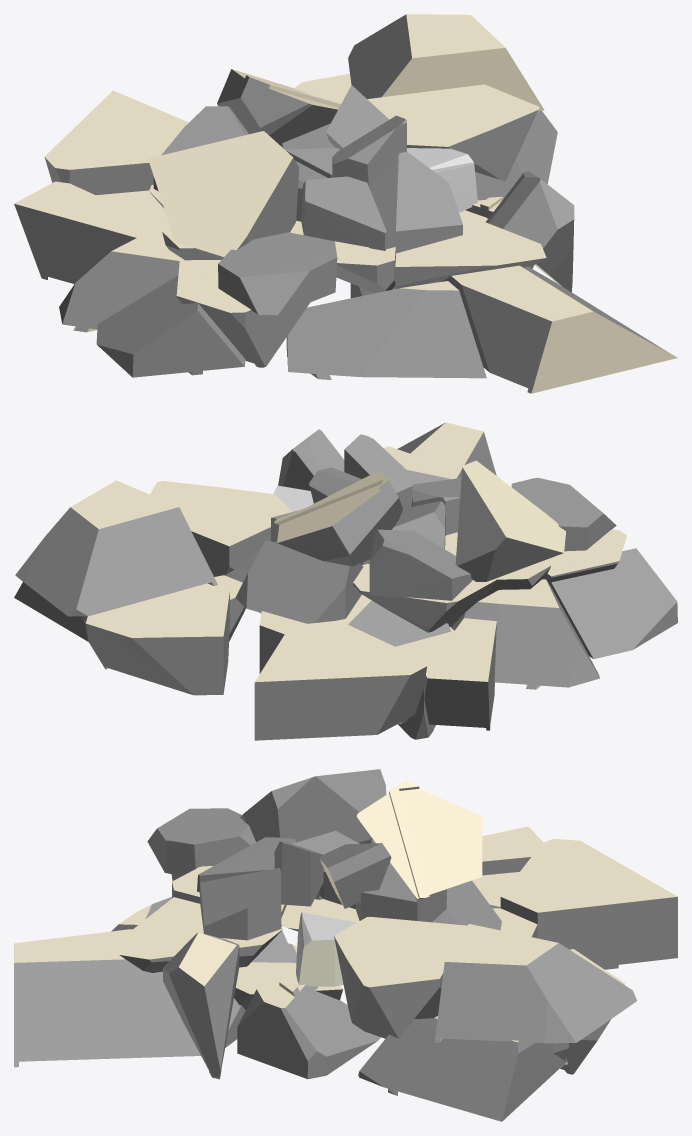
File: Celing_obstacle2.fbx
3 views of the same model, one above another, from view 1: azimuth 30°, elevation 25°; view 2: azimuth 150°, elevation 25°; view 3: azimuth 270°, elevation 25° (orthographic). The views are drawn at different scales.
Visible parts, largest first — view 1: Celing_obstacle2; view 2: Celing_obstacle2; view 3: Celing_obstacle2.
Boxes of the visible parts, x1,y1,x2,y2 form: Celing_obstacle2: (14,14,677,393); Celing_obstacle2: (14,422,677,740); Celing_obstacle2: (14,769,677,1121).
Bounding box in the file's own units: 311 × 108 × 323.
